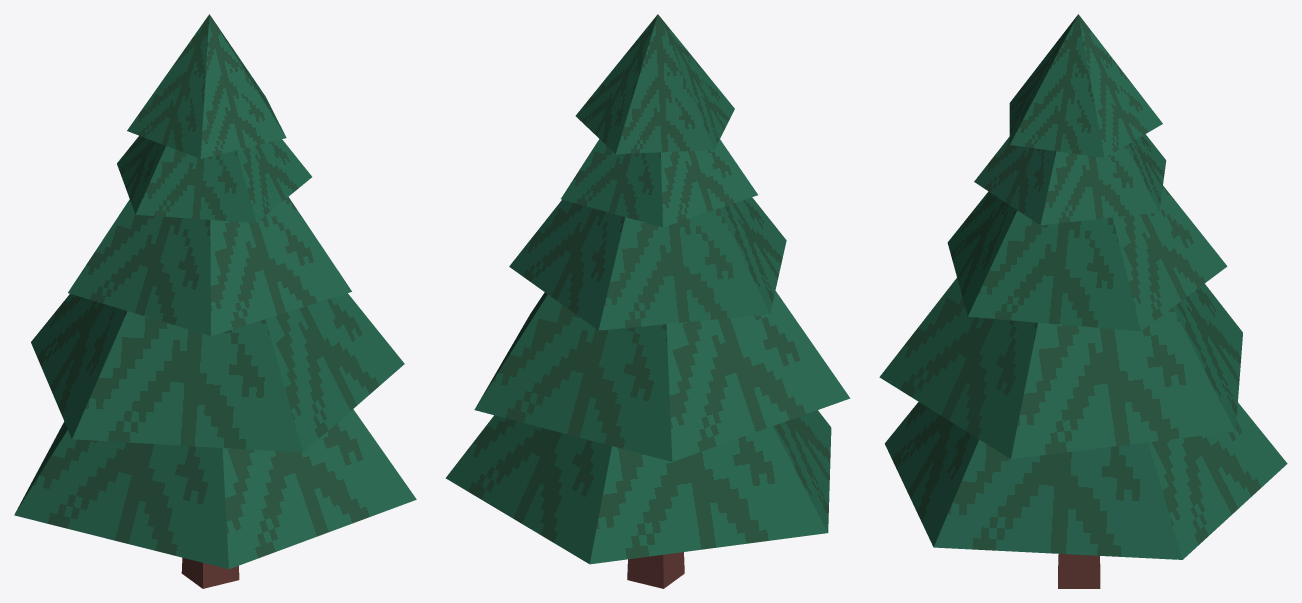
The model's file is blend_tree.glb.
The picture shows the model from 3 angles, left to right: view 1: azimuth 30°, elevation 25°; view 2: azimuth 150°, elevation 25°; view 3: azimuth 270°, elevation 25°; orthographic projection.
Visible parts, largest first — view 1: Tree; view 2: Tree; view 3: Tree.
Boxes of the visible parts, x1=… form: Tree: x1=14, y1=14, x2=416, y2=588; Tree: x1=446, y1=14, x2=850, y2=588; Tree: x1=879, y1=14, x2=1287, y2=588.
Bounding box in the file's own units: 4.71 × 7.36 × 4.82.
Materials: 1 (1 with a texture image).
